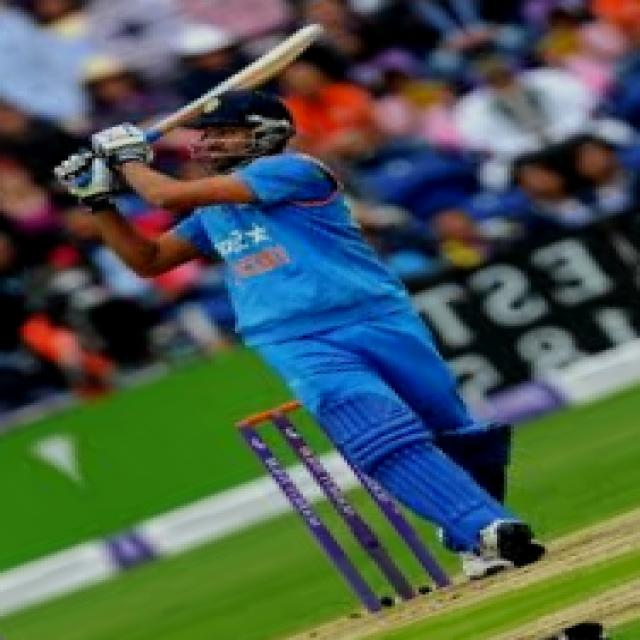toe: (295, 23, 332, 42)
